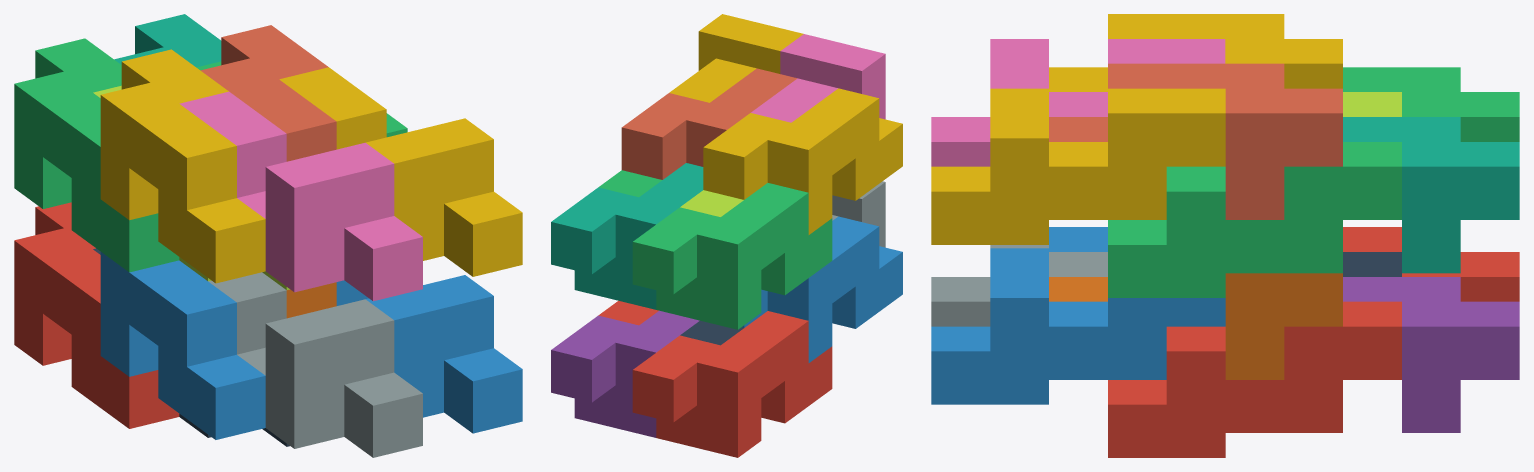
File: tiling.obj
3 views of the same model, side by side, from view 1: azimuth 30°, elevation 25°; view 2: azimuth 150°, elevation 25°; view 3: azimuth 270°, elevation 25° (orthographic). The views are drawn at different scales.
Parts seen in each view (by area): view 1: copy_2_domain_4, copy_1_domain_4, copy_2_domain_2, copy_1_domain_2, copy_2_domain_8, copy_1_domain_3, copy_1_domain_1, copy_2_domain_6, copy_1_domain_8, copy_1_domain_7, copy_1_domain_6; view 2: copy_1_domain_1, copy_1_domain_3, copy_1_domain_4, copy_1_domain_7, copy_1_domain_5, copy_1_domain_2, copy_1_domain_8, copy_2_domain_4, copy_2_domain_8, copy_2_domain_2, copy_2_domain_7, copy_2_domain_3 (+2 smaller); view 3: copy_2_domain_8, copy_2_domain_7, copy_2_domain_5, copy_2_domain_6, copy_1_domain_8, copy_1_domain_5, copy_1_domain_7, copy_1_domain_6, copy_2_domain_4, copy_1_domain_4, copy_1_domain_3, copy_2_domain_2 (+4 smaller).
Boxes of the visible parts, left/top/right/bottom form: copy_2_domain_4: left=179, top=91, right=422, bottom=301; copy_1_domain_4: left=100, top=49, right=265, bottom=283; copy_2_domain_2: left=208, top=272, right=422, bottom=457; copy_1_domain_2: left=100, top=252, right=265, bottom=439; copy_2_domain_8: left=279, top=67, right=522, bottom=276; copy_1_domain_3: left=14, top=38, right=179, bottom=272; copy_1_domain_1: left=14, top=202, right=179, bottom=428; copy_2_domain_6: left=336, top=275, right=522, bottom=433; copy_1_domain_8: left=200, top=25, right=336, bottom=161; copy_1_domain_7: left=114, top=14, right=221, bottom=67; copy_1_domain_6: left=286, top=282, right=336, bottom=318; copy_1_domain_1: left=632, top=311, right=832, bottom=457; copy_1_domain_3: left=632, top=183, right=832, bottom=329; copy_1_domain_4: left=703, top=88, right=902, bottom=234; copy_1_domain_7: left=551, top=163, right=703, bottom=309; copy_1_domain_5: left=551, top=310, right=699, bottom=437; copy_1_domain_2: left=741, top=216, right=902, bottom=362; copy_1_domain_8: left=621, top=68, right=796, bottom=179; copy_2_domain_4: left=751, top=34, right=885, bottom=122; copy_2_domain_8: left=669, top=14, right=803, bottom=102; copy_2_domain_2: left=832, top=181, right=885, bottom=247; copy_2_domain_7: left=598, top=170, right=662, bottom=197; copy_2_domain_3: left=680, top=190, right=743, bottom=216; copy_2_domain_8: left=931, top=88, right=1225, bottom=244; copy_2_domain_7: left=1108, top=142, right=1401, bottom=297; copy_2_domain_5: left=1108, top=301, right=1401, bottom=457; copy_2_domain_6: left=931, top=248, right=1225, bottom=404; copy_1_domain_8: left=1049, top=63, right=1342, bottom=219; copy_1_domain_5: left=1343, top=277, right=1519, bottom=432; copy_1_domain_7: left=1343, top=117, right=1519, bottom=273; copy_1_domain_6: left=1049, top=273, right=1342, bottom=379; copy_2_domain_4: left=931, top=39, right=1225, bottom=166; copy_1_domain_4: left=1049, top=14, right=1342, bottom=91; copy_1_domain_3: left=1343, top=67, right=1519, bottom=141; copy_2_domain_2: left=931, top=245, right=1107, bottom=326.
Bounding box in the file's own units: 5 × 6 × 10.
